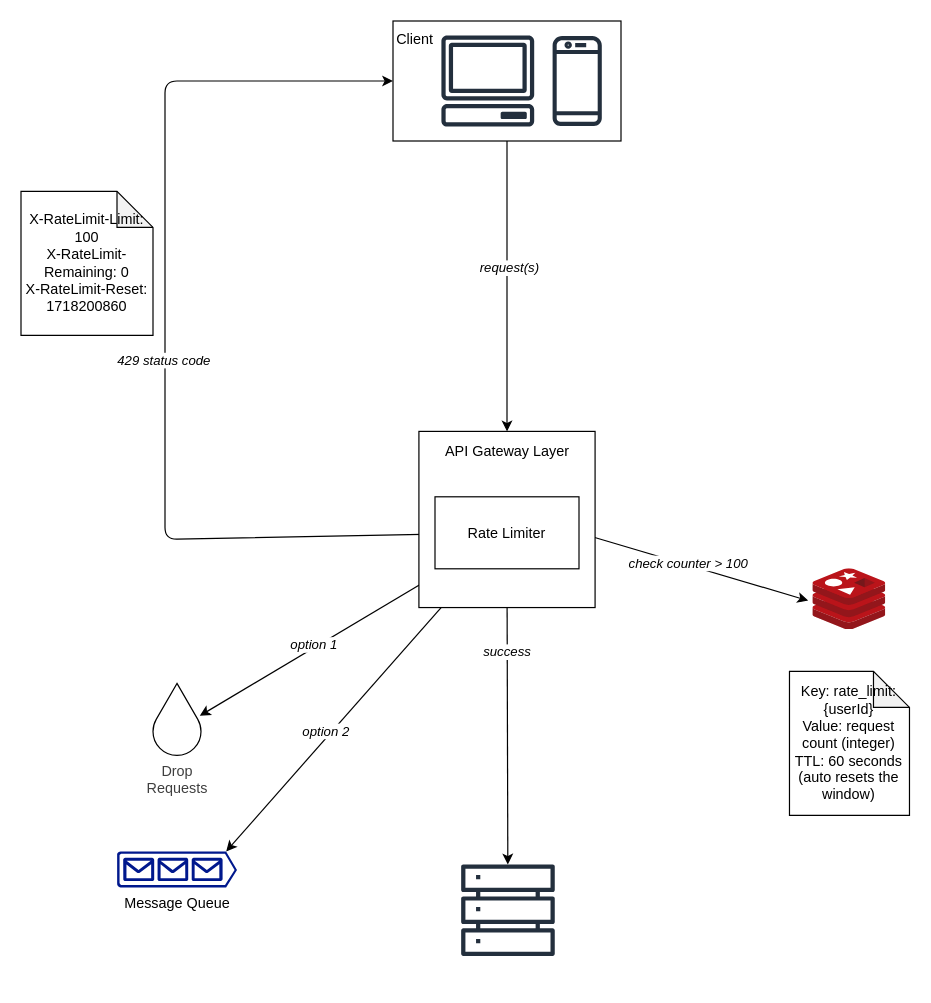
Some shapes in this 931 by 1003 pixel diagram are drawn without their labels. The shapes that lost their labels are listed below. From the top down, each one's centre as x and y in pixels, then its label:
point (848, 598): Redis Cache
point (507, 909): Servers
